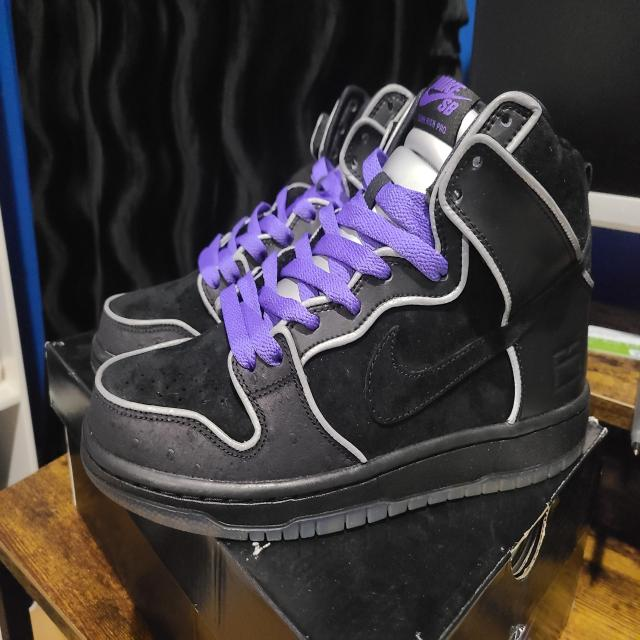shoe: (79, 77, 595, 544)
